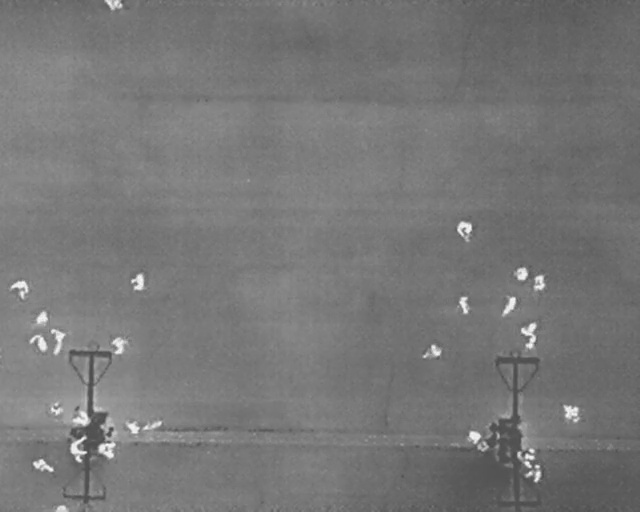Person: (26, 330, 51, 357), (67, 434, 86, 466), (48, 326, 67, 356), (519, 321, 538, 351), (499, 292, 518, 320), (6, 279, 29, 302), (29, 457, 56, 474), (456, 218, 472, 244), (562, 401, 579, 425), (96, 441, 115, 462), (419, 343, 442, 360), (516, 448, 535, 468), (524, 464, 543, 483), (108, 337, 128, 354), (129, 272, 145, 292), (72, 405, 88, 425), (124, 419, 140, 436), (513, 264, 528, 282), (458, 294, 470, 316), (35, 308, 50, 325), (103, 0, 124, 11), (466, 429, 482, 443), (533, 274, 545, 291), (50, 402, 62, 418), (478, 441, 489, 452)
